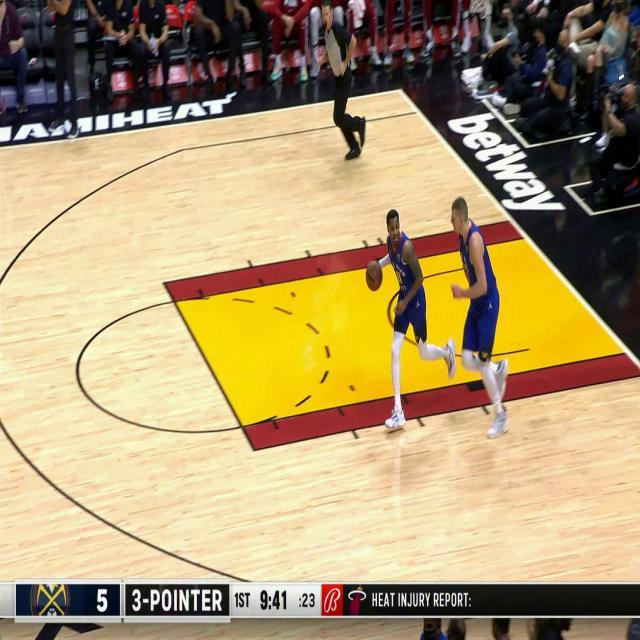rim: (365, 258, 383, 292)
